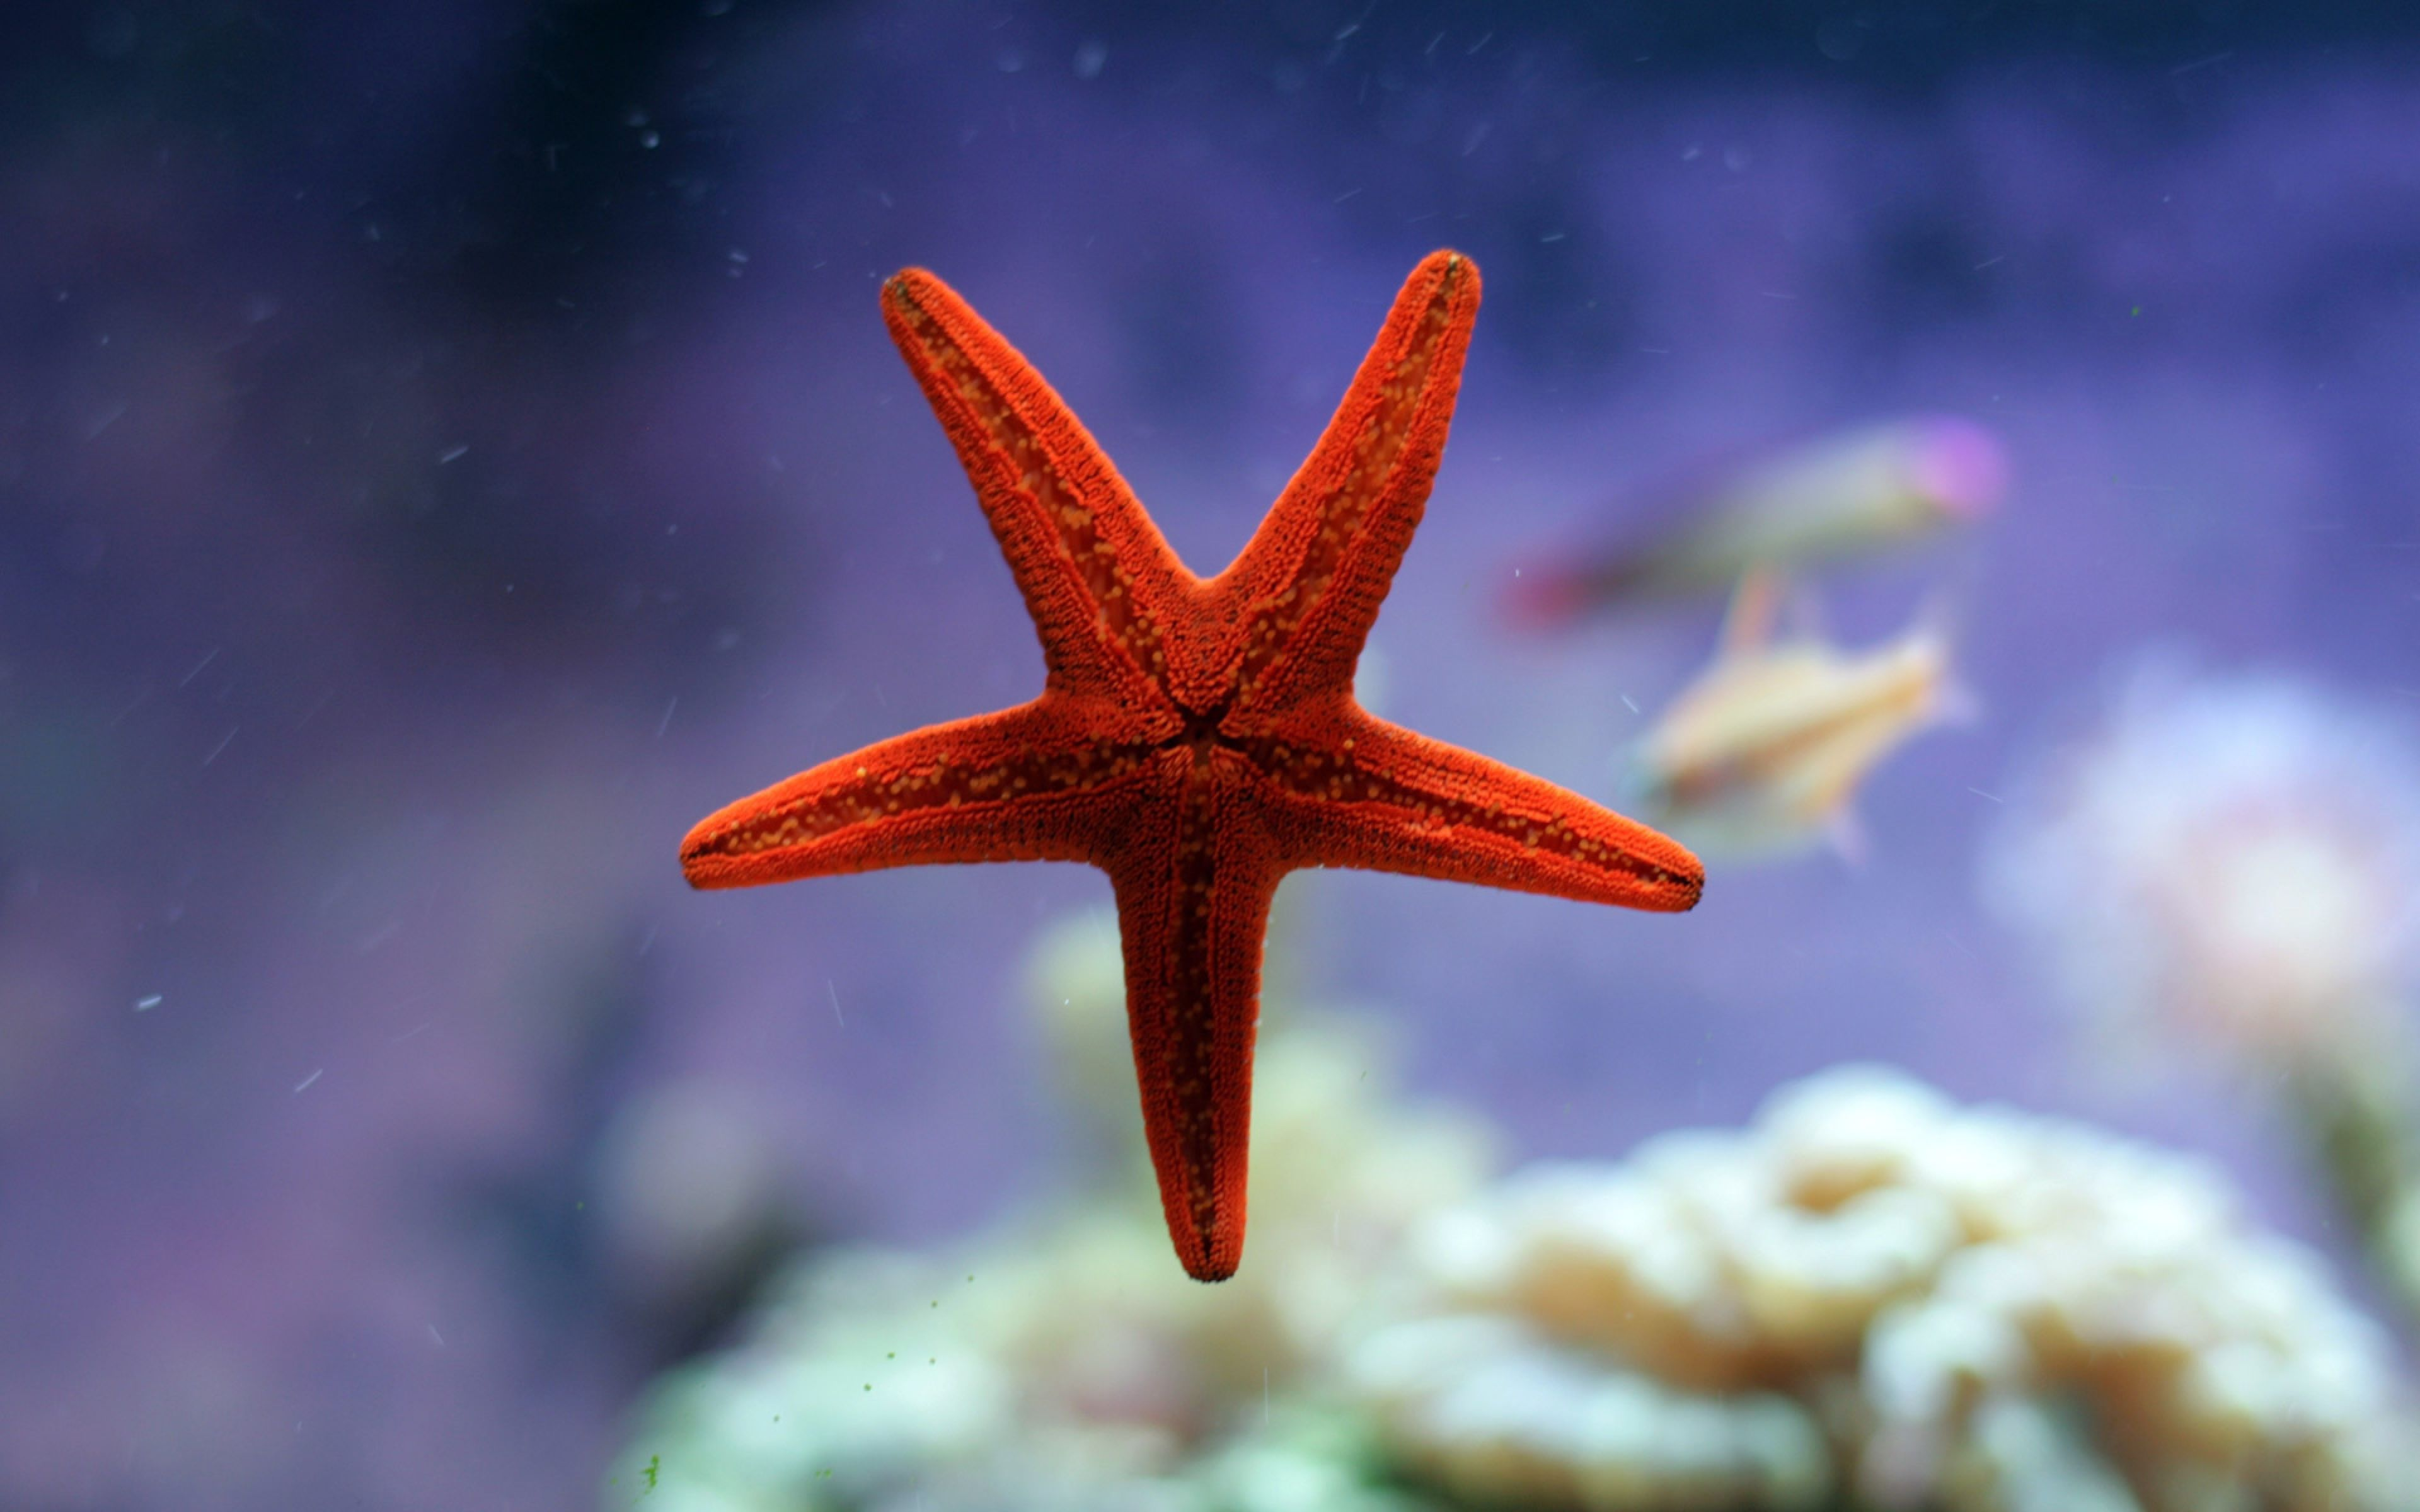starfish: (638, 232, 1779, 1275)
